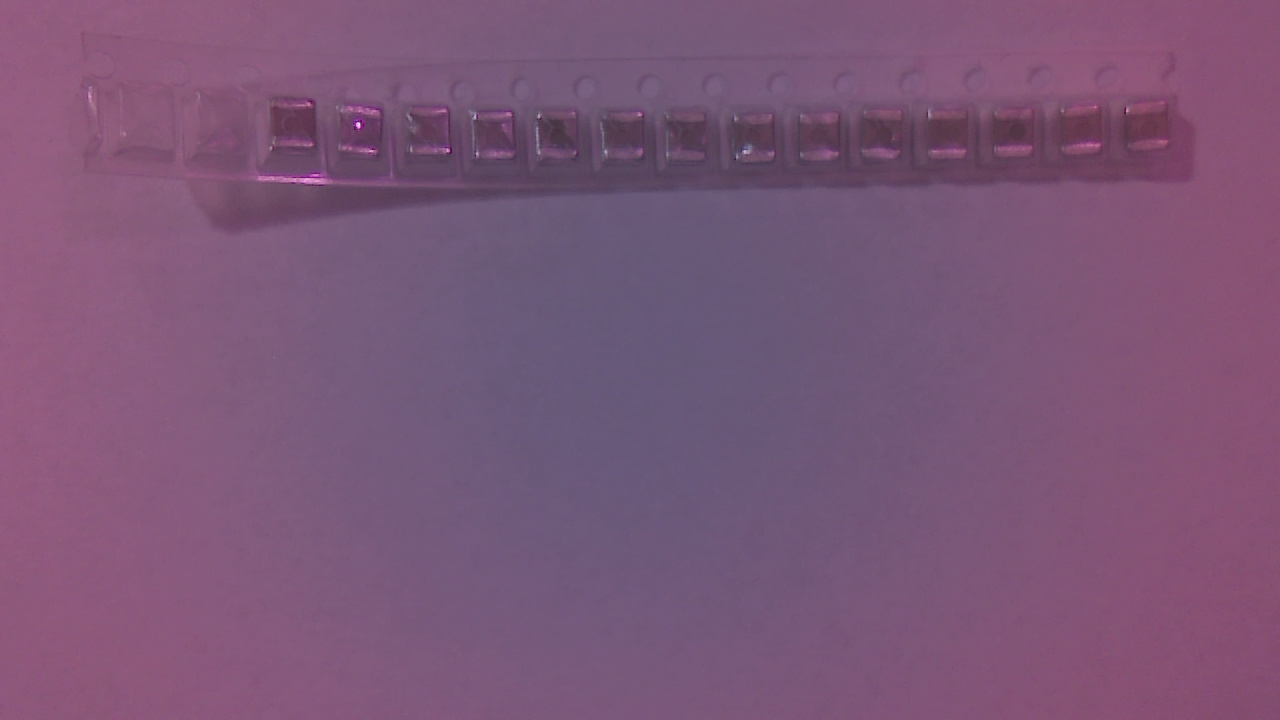Condensator: (927, 109, 981, 167), (733, 114, 785, 171), (995, 105, 1042, 168), (1127, 103, 1178, 160), (273, 102, 324, 156), (540, 110, 585, 170), (800, 113, 849, 168), (865, 109, 913, 165), (667, 113, 715, 168), (1064, 104, 1111, 160), (341, 109, 388, 163), (411, 108, 454, 166), (607, 109, 647, 167), (477, 109, 518, 165)
